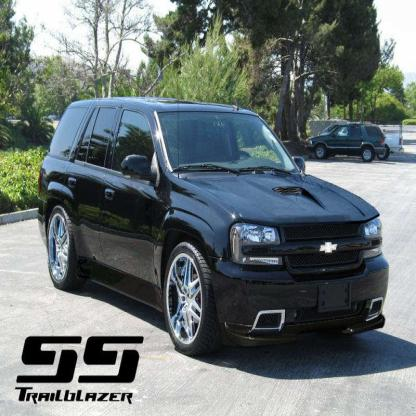Vehicle: (35, 95, 390, 358)
